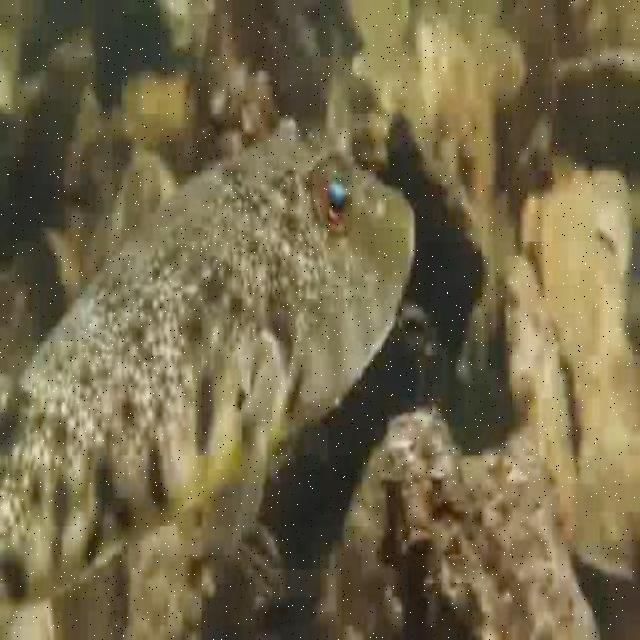Oyster-Closed: (335, 407, 537, 640), (464, 455, 592, 640), (501, 259, 579, 541), (575, 354, 640, 579), (420, 20, 497, 207), (545, 203, 623, 387), (553, 61, 640, 174), (217, 524, 282, 610), (42, 235, 80, 308)
Oyster-Open: (348, 117, 490, 409)
